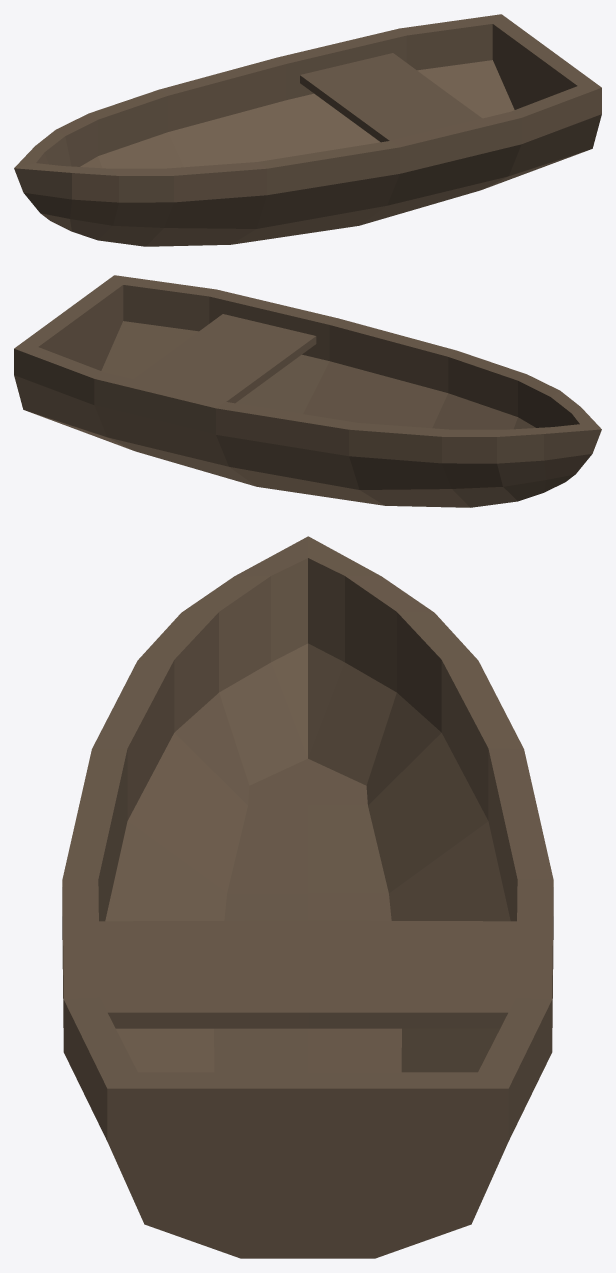
Rendered from Boat1.fbx.
The picture shows the model from 3 angles, top to bottom: view 1: azimuth 30°, elevation 25°; view 2: azimuth 150°, elevation 25°; view 3: azimuth 270°, elevation 25°; orthographic projection. The views are drawn at different scales.
Visible parts, largest first — view 1: Boat1_Model; view 2: Boat1_Model; view 3: Boat1_Model.
Part boxes in pixels (x1,y1,x2,y2): Boat1_Model: [14, 14, 601, 246]; Boat1_Model: [14, 275, 601, 507]; Boat1_Model: [62, 536, 553, 1258].
Size of the model in its own units: 204 by 44.03 by 80.51.
